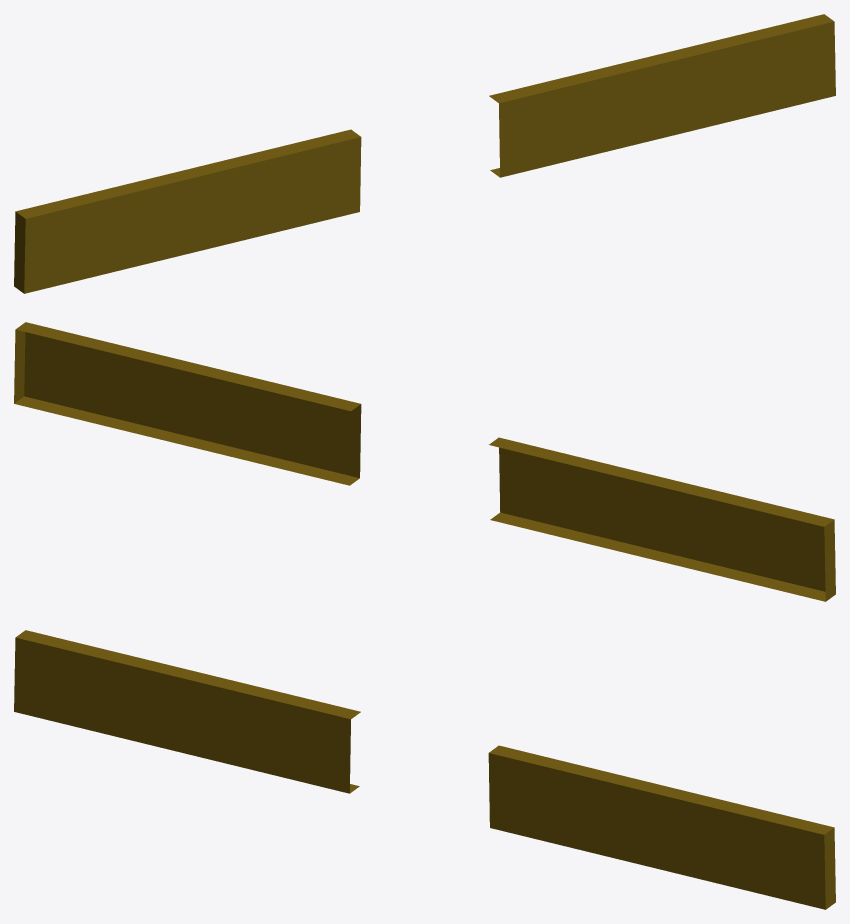
The model's file is Pieza Rota Circulo.fbx.
3 renders of one model, top to bottom at view 1: azimuth 30°, elevation 25°; view 2: azimuth 150°, elevation 25°; view 3: azimuth 330°, elevation 25°, orthographic.
Visible parts, largest first — view 1: pSphere16; view 2: pSphere16; view 3: pSphere16.
Boxes of the visible parts, box(x1,y1,x2,y2) form: pSphere16: box(14, 14, 835, 293); pSphere16: box(14, 322, 835, 601); pSphere16: box(14, 630, 835, 909).
Size of the model in its own units: 4.48 by 0.394 by 0.0979.
